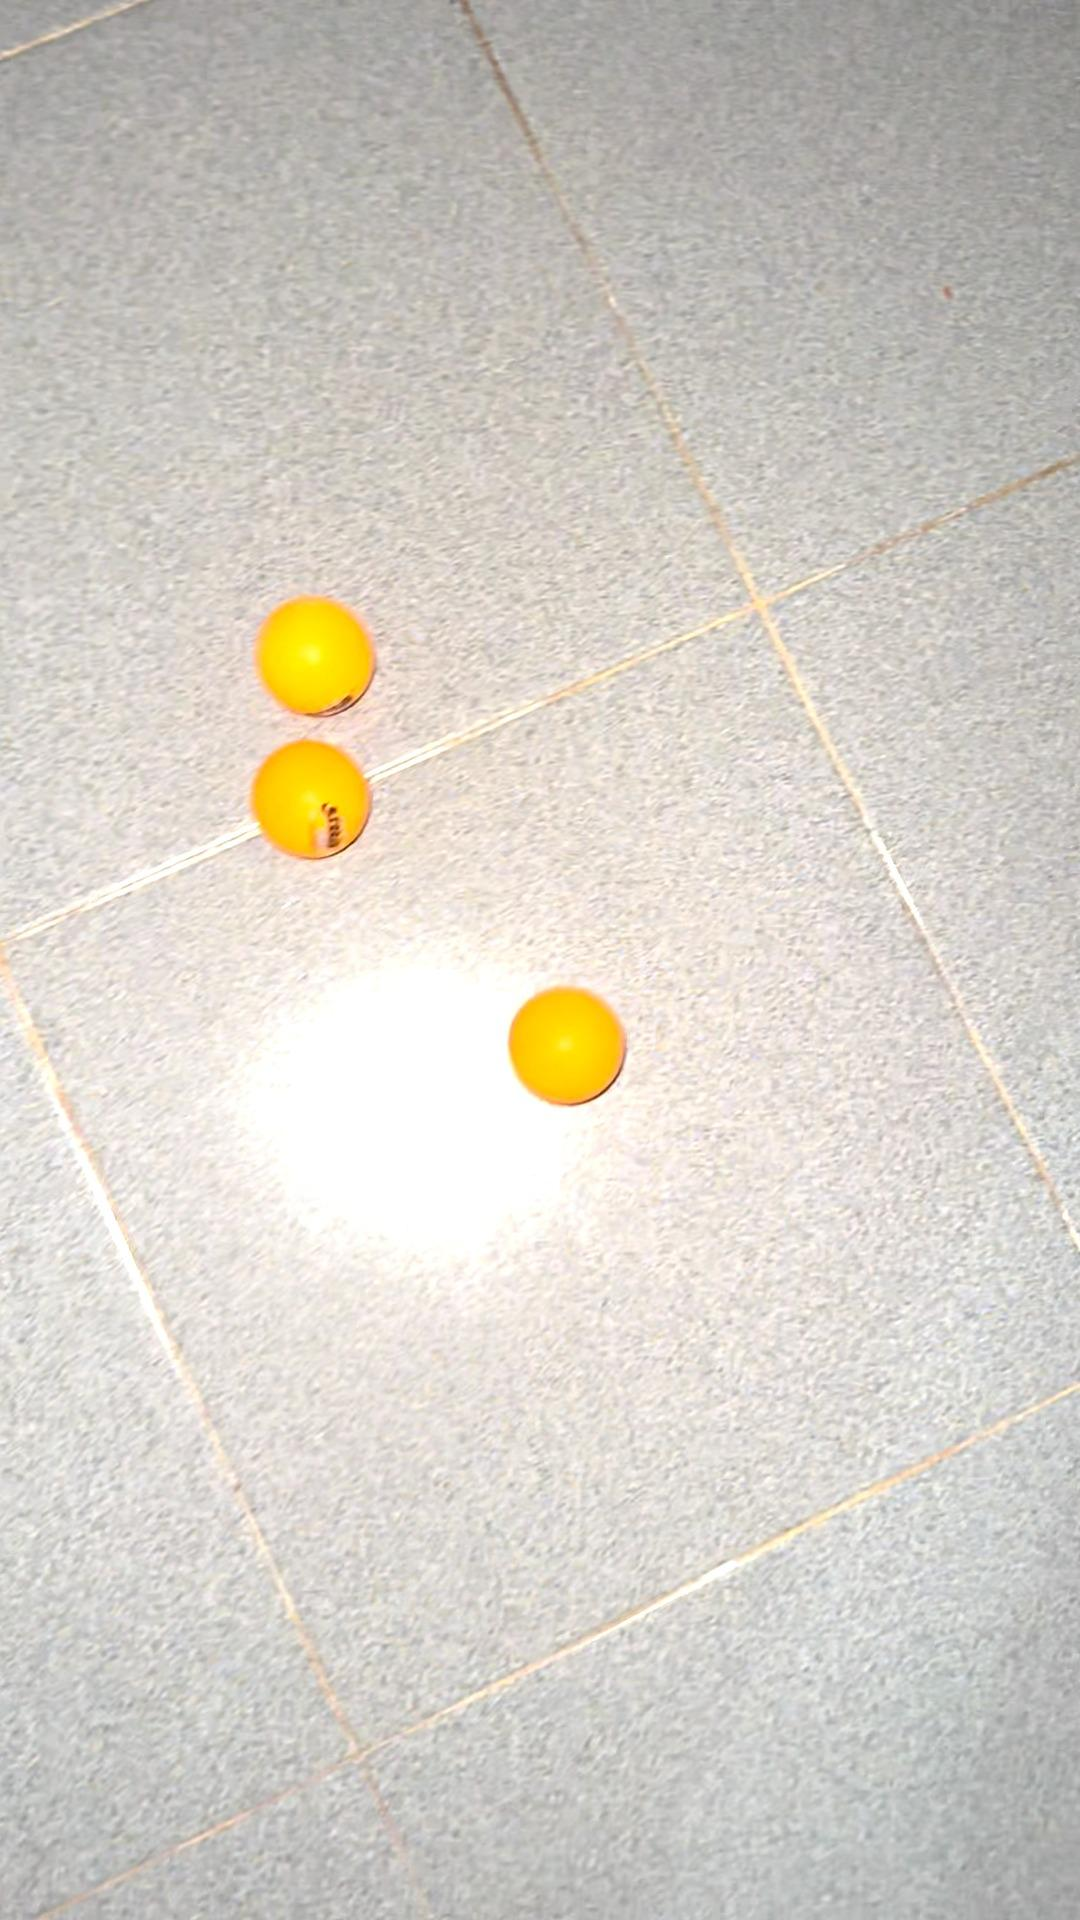oball: (244, 584, 388, 728), (248, 731, 377, 866), (505, 977, 637, 1106)
